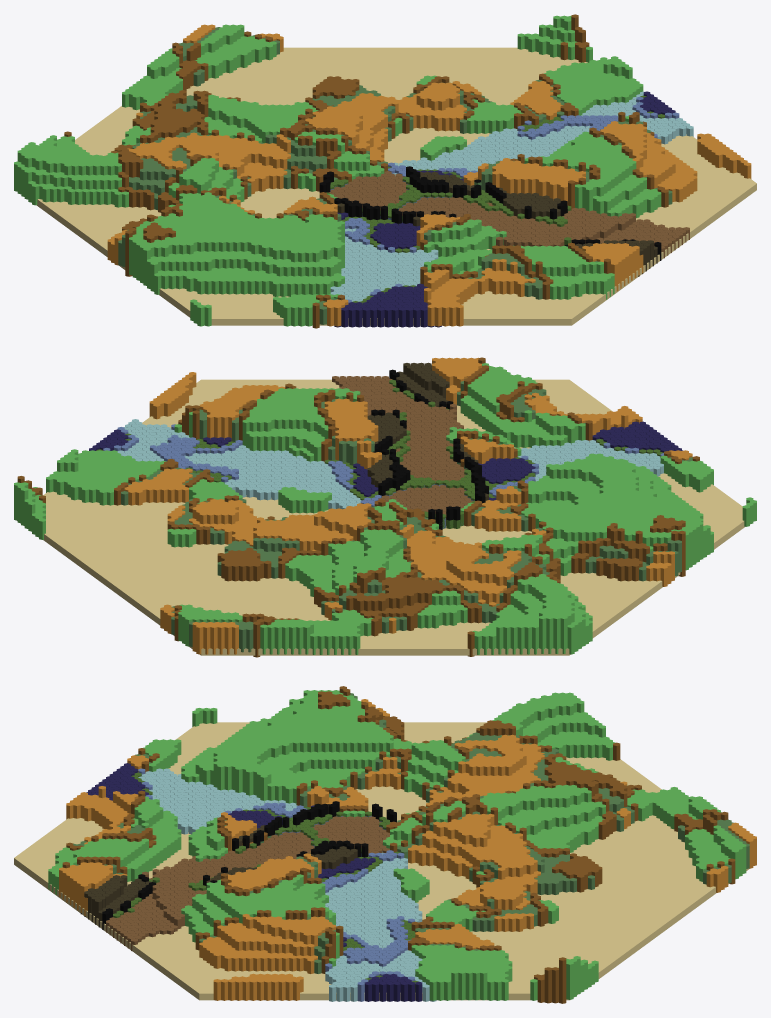
Rendered from 0036_tile_1022201.fbx.
The picture shows the model from 3 angles, top to bottom: view 1: azimuth 30°, elevation 25°; view 2: azimuth 150°, elevation 25°; view 3: azimuth 270°, elevation 25°; orthographic projection.
Visible parts, largest first — view 1: Plane; view 2: Plane; view 3: Plane.
Boxes of the visible parts, x1=… form: Plane: x1=14, y1=14, x2=756, y2=328; Plane: x1=14, y1=357, x2=756, y2=657; Plane: x1=14, y1=686, x2=756, y2=1003.
Size of the model in its own units: 1008 by 73.78 by 1152.
